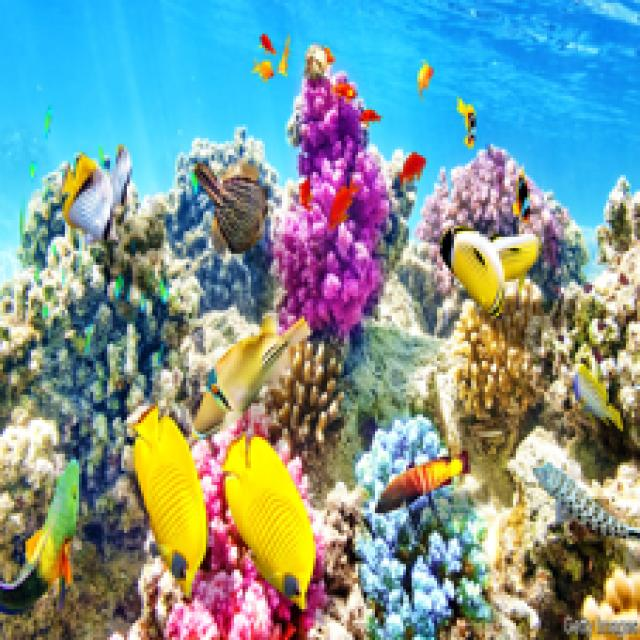Healthy: (4, 176, 184, 511), (274, 46, 387, 337), (165, 421, 289, 638), (415, 148, 579, 297), (356, 486, 489, 638), (452, 283, 542, 503), (269, 345, 342, 458), (359, 418, 438, 500)
